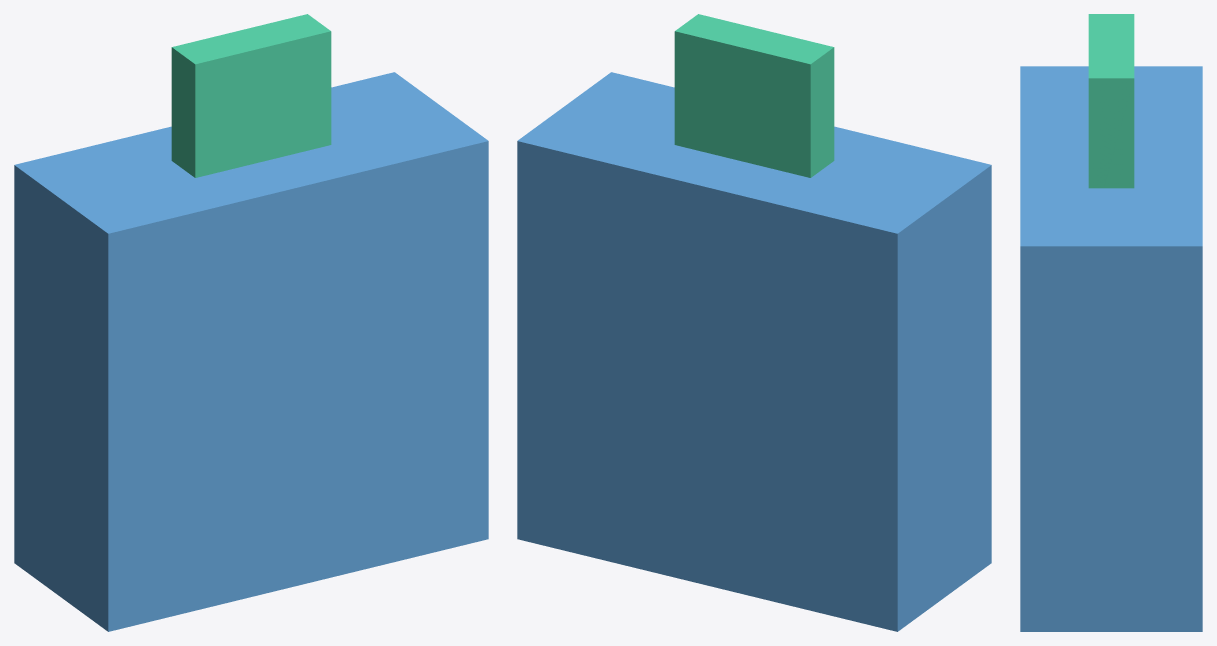
Rendered from inventory_control_eoq.glb.
3 views of the same model, side by side, from view 1: azimuth 30°, elevation 25°; view 2: azimuth 150°, elevation 25°; view 3: azimuth 270°, elevation 25° (orthographic). The views are drawn at different scales.
Parts seen in each view (by area): view 1: WarehouseStorageRackFrame, DispatchDigitalTerminal; view 2: WarehouseStorageRackFrame, DispatchDigitalTerminal; view 3: WarehouseStorageRackFrame, DispatchDigitalTerminal.
Part boxes in pixels (bbox=[...]): WarehouseStorageRackFrame: bbox=[14, 72, 488, 631]; DispatchDigitalTerminal: bbox=[171, 14, 331, 177]; WarehouseStorageRackFrame: bbox=[517, 72, 991, 631]; DispatchDigitalTerminal: bbox=[674, 14, 834, 177]; WarehouseStorageRackFrame: bbox=[1020, 66, 1202, 631]; DispatchDigitalTerminal: bbox=[1088, 14, 1134, 188].
Bounding box in the file's own units: 1.4 × 1.8 × 0.6.
